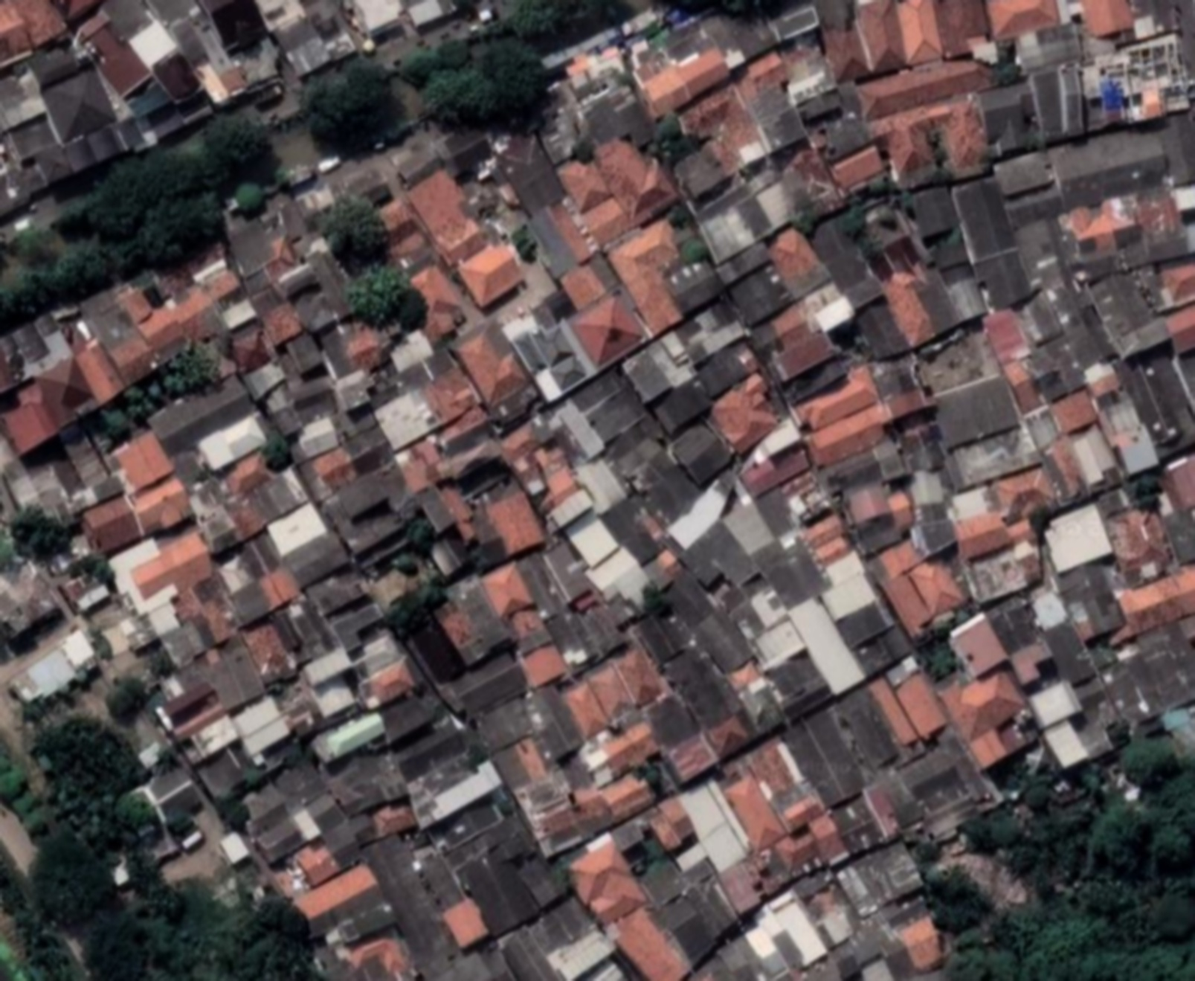building: (0, 0, 184, 216), (674, 734, 849, 913), (361, 818, 490, 981), (229, 756, 370, 904), (494, 714, 633, 862), (73, 0, 214, 144), (622, 0, 787, 122), (0, 31, 128, 183), (509, 279, 652, 407), (856, 732, 999, 859), (140, 0, 296, 114), (0, 35, 121, 174), (553, 123, 684, 250), (359, 830, 464, 981), (725, 578, 837, 719), (48, 284, 166, 409), (357, 342, 480, 459), (620, 298, 752, 406), (603, 216, 714, 339), (658, 638, 764, 766), (844, 255, 964, 368), (867, 92, 996, 197), (1090, 610, 1195, 736), (1074, 28, 1195, 137), (1057, 184, 1190, 281), (948, 174, 1035, 316), (937, 659, 1044, 774), (654, 564, 758, 681), (1047, 119, 1175, 214), (686, 164, 802, 268), (180, 453, 292, 558), (318, 460, 427, 567), (0, 354, 106, 463), (292, 859, 401, 964), (493, 891, 620, 981), (202, 529, 309, 635), (425, 787, 536, 888), (556, 643, 670, 741), (145, 366, 259, 463), (448, 317, 545, 431), (110, 526, 222, 622), (853, 48, 995, 123), (549, 363, 653, 463), (584, 125, 682, 229), (397, 741, 506, 834), (1079, 363, 1163, 480), (649, 872, 747, 971), (1023, 669, 1114, 774), (783, 706, 873, 812), (402, 165, 492, 270), (7, 625, 107, 718), (558, 832, 650, 932), (782, 593, 869, 698), (254, 0, 364, 83), (426, 572, 517, 671), (1084, 263, 1173, 364), (736, 888, 832, 981), (1118, 346, 1195, 458), (252, 0, 357, 82), (214, 200, 304, 295), (455, 843, 543, 940), (760, 147, 852, 239), (634, 41, 737, 123), (68, 11, 157, 104), (804, 214, 886, 314), (702, 369, 793, 459), (461, 477, 550, 569), (812, 0, 907, 85), (675, 776, 756, 875), (1014, 217, 1083, 329), (603, 899, 697, 981), (834, 839, 927, 921), (134, 282, 227, 364), (928, 371, 1022, 451), (732, 63, 810, 159), (563, 287, 650, 373), (682, 518, 767, 604), (34, 61, 119, 147), (490, 128, 569, 220), (409, 758, 505, 833), (1052, 556, 1131, 647), (802, 399, 899, 473), (828, 684, 906, 776), (0, 553, 69, 655), (544, 595, 631, 675), (1101, 499, 1179, 588), (942, 423, 1041, 493), (442, 648, 532, 724), (790, 364, 883, 437), (323, 742, 410, 820), (624, 449, 705, 531), (520, 195, 597, 281), (0, 310, 78, 394), (452, 235, 533, 314), (619, 330, 701, 407), (1040, 306, 1120, 384), (196, 636, 272, 717), (948, 503, 1038, 571), (578, 718, 664, 789), (517, 681, 589, 765), (389, 715, 475, 784), (961, 539, 1048, 607), (1115, 564, 1195, 637), (0, 430, 68, 515), (664, 477, 740, 553), (599, 420, 675, 496), (1037, 502, 1115, 576), (760, 223, 832, 303), (174, 576, 245, 654), (1026, 62, 1092, 145), (136, 759, 210, 833), (865, 349, 935, 427), (840, 476, 906, 558), (665, 416, 738, 490), (598, 495, 668, 571), (400, 615, 470, 691), (0, 0, 78, 68), (270, 594, 340, 669), (766, 889, 831, 969), (584, 543, 656, 615), (758, 540, 829, 613), (370, 384, 443, 455), (943, 610, 1013, 684), (408, 260, 470, 343), (192, 412, 272, 476), (763, 319, 839, 386), (883, 896, 945, 978), (975, 81, 1040, 158), (308, 707, 390, 768), (388, 428, 459, 498), (107, 428, 177, 498), (725, 262, 796, 331), (126, 473, 198, 541), (726, 659, 790, 735), (890, 668, 953, 745), (523, 790, 591, 861), (279, 528, 353, 593), (1012, 215, 1075, 291), (77, 492, 146, 561), (430, 117, 500, 185), (530, 100, 597, 171), (1133, 0, 1194, 77), (667, 141, 736, 209), (196, 0, 275, 59), (935, 97, 993, 177), (690, 337, 761, 402), (660, 252, 728, 319), (647, 374, 717, 439), (675, 82, 746, 146), (737, 443, 814, 501), (877, 568, 938, 641), (544, 920, 617, 981), (1039, 615, 1098, 690), (416, 363, 483, 429), (989, 463, 1059, 526), (864, 675, 921, 752), (417, 363, 483, 429), (717, 491, 781, 559), (906, 552, 969, 621), (472, 693, 542, 755), (628, 603, 693, 669), (582, 383, 649, 447), (243, 465, 311, 528), (69, 337, 129, 408), (538, 538, 598, 609), (580, 86, 653, 144), (193, 742, 258, 807), (984, 592, 1048, 658), (307, 245, 360, 323), (155, 673, 222, 734), (1010, 21, 1085, 75), (514, 550, 570, 622), (514, 846, 575, 912), (797, 508, 859, 572), (641, 690, 703, 754), (332, 466, 398, 526), (802, 882, 861, 949), (240, 619, 298, 687), (550, 396, 608, 464), (849, 620, 914, 680), (263, 500, 329, 559), (477, 560, 537, 624), (572, 451, 631, 516), (894, 911, 953, 976), (906, 182, 964, 247), (1064, 424, 1121, 490), (376, 690, 442, 747), (932, 0, 993, 61), (1027, 343, 1088, 404), (832, 593, 895, 652), (829, 794, 887, 858), (305, 565, 369, 623), (991, 147, 1058, 202), (642, 794, 700, 857), (563, 509, 622, 570), (1037, 436, 1089, 505), (951, 507, 1015, 563), (355, 657, 420, 712), (562, 42, 629, 95), (327, 598, 390, 654), (104, 328, 162, 388), (597, 768, 658, 825), (979, 304, 1033, 368), (577, 192, 636, 250), (230, 35, 289, 93), (747, 616, 807, 673), (894, 0, 945, 67), (829, 926, 891, 981), (827, 142, 890, 196), (1002, 179, 1067, 231), (634, 852, 692, 910), (149, 47, 205, 107), (386, 136, 446, 192), (817, 448, 884, 498), (272, 679, 326, 741), (438, 894, 494, 953), (293, 529, 352, 584), (741, 416, 804, 467), (781, 476, 838, 532), (1013, 289, 1067, 348), (440, 436, 505, 485), (817, 110, 876, 163), (819, 570, 878, 623), (345, 937, 417, 980), (435, 480, 484, 543), (986, 0, 1060, 41), (289, 283, 343, 339), (192, 499, 244, 557), (714, 239, 775, 288), (556, 258, 610, 313), (341, 424, 396, 478), (239, 714, 297, 765), (286, 412, 344, 463), (62, 432, 112, 491), (697, 936, 764, 980), (255, 300, 309, 354), (727, 10, 780, 64), (1040, 717, 1091, 773), (517, 640, 571, 692), (59, 567, 114, 618), (186, 712, 242, 762), (605, 771, 658, 823), (1048, 388, 1101, 439), (532, 441, 578, 499), (224, 325, 276, 376), (308, 443, 360, 494), (907, 511, 960, 561), (345, 162, 399, 211), (1001, 356, 1046, 414), (1007, 639, 1059, 689), (328, 367, 379, 417), (282, 331, 330, 384), (544, 485, 597, 533), (384, 327, 437, 375), (753, 487, 800, 541), (352, 629, 404, 677), (373, 194, 421, 246), (273, 194, 321, 246), (158, 619, 207, 669), (768, 2, 823, 46), (299, 645, 354, 689), (428, 951, 511, 980), (843, 480, 893, 528), (230, 694, 283, 739), (414, 485, 459, 538), (198, 264, 247, 311), (1020, 403, 1066, 453), (809, 292, 859, 338), (505, 603, 551, 653), (1162, 114, 1194, 185), (925, 227, 971, 276), (241, 358, 291, 403), (882, 382, 935, 424), (1025, 586, 1071, 634), (765, 301, 814, 346), (876, 536, 924, 581), (113, 280, 158, 327), (795, 88, 846, 129), (311, 676, 358, 720), (536, 464, 583, 508), (530, 286, 577, 330), (1080, 0, 1133, 39), (495, 421, 543, 464), (191, 61, 234, 109), (572, 784, 614, 833), (344, 322, 386, 371), (742, 50, 789, 93), (273, 259, 321, 301), (348, 0, 402, 36), (370, 800, 418, 840), (643, 546, 686, 590), (46, 452, 87, 498), (946, 485, 994, 523), (1080, 357, 1122, 400), (906, 466, 947, 509), (426, 536, 466, 580), (1163, 508, 1194, 564), (286, 376, 334, 411), (1159, 262, 1195, 308), (143, 599, 183, 639), (1077, 21, 1118, 60), (1092, 484, 1133, 523), (1165, 454, 1194, 509), (405, 0, 456, 31), (418, 345, 459, 383), (880, 945, 923, 981), (218, 296, 259, 333), (1166, 304, 1194, 354), (733, 137, 769, 169), (261, 384, 294, 417), (836, 612, 868, 644), (799, 957, 843, 980), (0, 351, 22, 393), (113, 0, 157, 19), (862, 601, 890, 628), (72, 316, 96, 344), (705, 810, 722, 835), (692, 826, 710, 843), (511, 743, 526, 763), (465, 405, 481, 419), (691, 765, 709, 777), (730, 123, 746, 136), (1016, 550, 1033, 560), (448, 422, 475, 428), (663, 737, 682, 745), (698, 763, 709, 774)
tree: (61, 127, 219, 256), (27, 686, 159, 818), (950, 909, 1142, 975), (0, 241, 132, 333), (291, 57, 401, 154), (20, 823, 119, 930), (216, 887, 326, 981), (397, 27, 495, 132), (128, 190, 233, 283), (134, 335, 231, 432), (0, 871, 75, 981), (472, 36, 556, 134), (333, 256, 416, 335), (923, 857, 1002, 937), (1005, 821, 1087, 898), (1078, 805, 1158, 883), (84, 914, 177, 981), (199, 111, 278, 189), (314, 196, 392, 275), (0, 763, 62, 849), (1132, 884, 1194, 966), (120, 846, 185, 924), (505, 0, 603, 51), (1143, 775, 1189, 880), (1001, 763, 1060, 823), (388, 518, 441, 583), (839, 203, 891, 268), (11, 514, 64, 569), (1122, 734, 1180, 782), (91, 797, 144, 848), (963, 813, 1019, 861), (387, 582, 441, 627), (102, 667, 150, 714), (65, 546, 117, 582), (1075, 880, 1133, 912), (1121, 473, 1162, 509), (919, 640, 954, 677), (644, 580, 675, 615), (151, 745, 179, 773), (218, 797, 244, 826), (236, 766, 266, 791), (270, 433, 289, 469)
